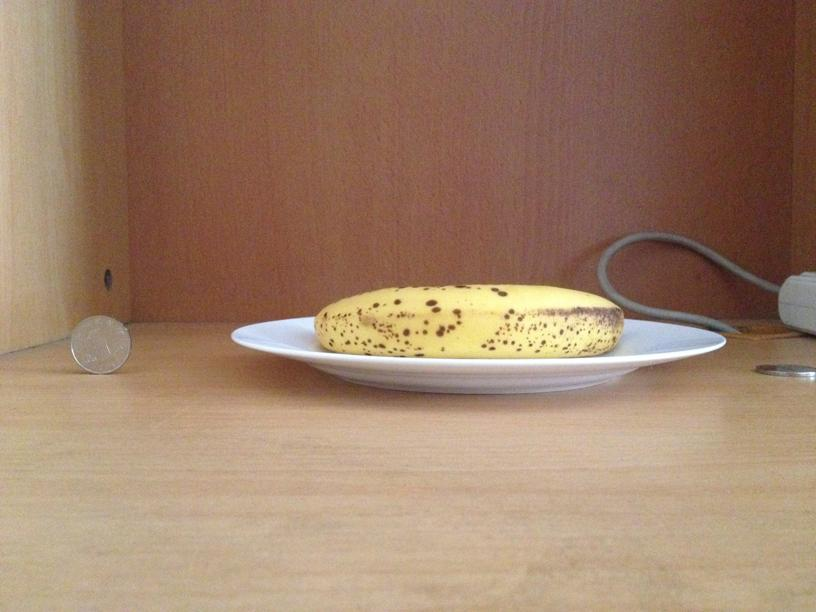banana: (307, 282, 624, 356)
coin: (70, 314, 130, 374)
